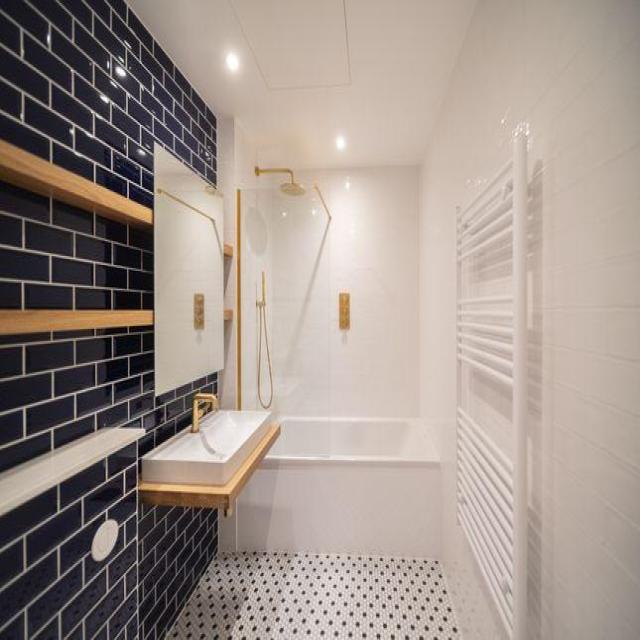Wall: (309, 1, 640, 637), (0, 324, 217, 638), (134, 1, 475, 168), (0, 0, 216, 208), (219, 118, 330, 416), (166, 551, 459, 638), (0, 183, 154, 314)
